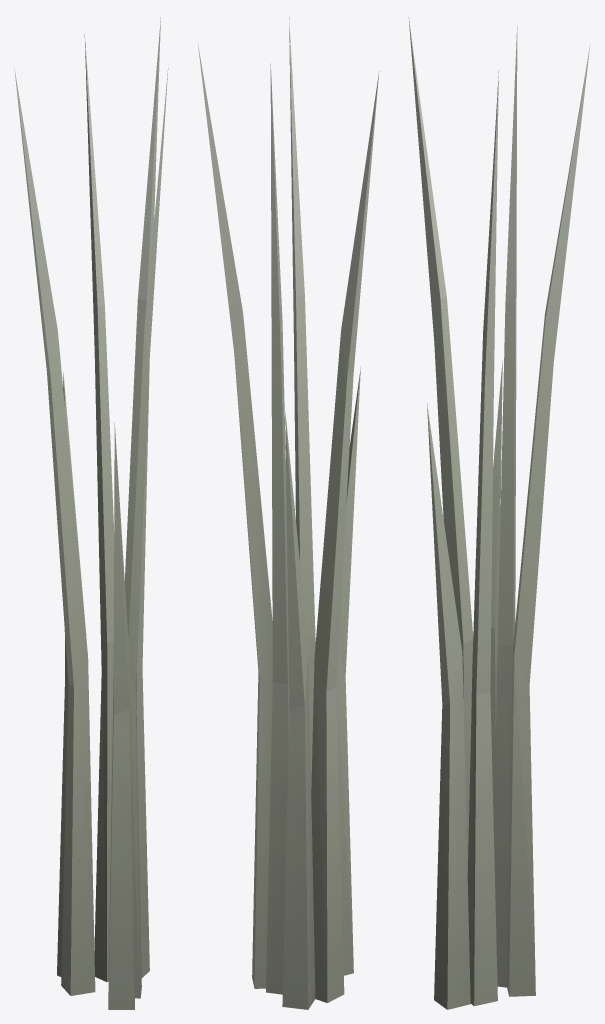
The model's file is grass_reed.glb.
The picture shows the model from 3 angles, left to right: view 1: azimuth 30°, elevation 25°; view 2: azimuth 150°, elevation 25°; view 3: azimuth 330°, elevation 25°; orthographic projection.
Visible parts, largest first — view 1: grass_reed; view 2: grass_reed; view 3: grass_reed.
Boxes of the visible parts, x1,y1,x2,y2 form: grass_reed: (14, 17, 168, 1009); grass_reed: (197, 16, 379, 1009); grass_reed: (408, 17, 590, 1009).
Bounding box in the file's own units: 0.1465 × 0.8 × 0.098.
1 material, 1 textured.
